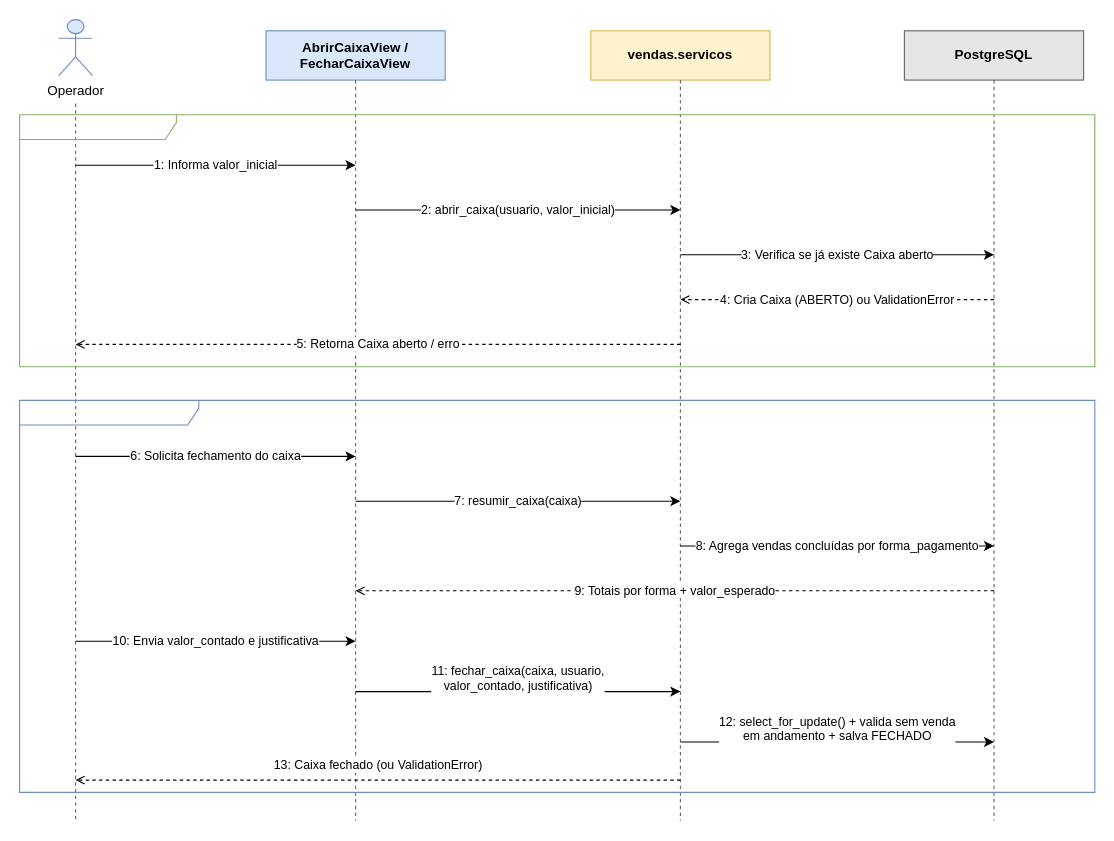
Image size: 1114x841. Some labels were removed from this diagram. The centre of each missing label's shape, as x and y in pixels:
"Abertura de Caixa" belongs at (556,240).
"Fechamento de Caixa" belongs at (556,595).
